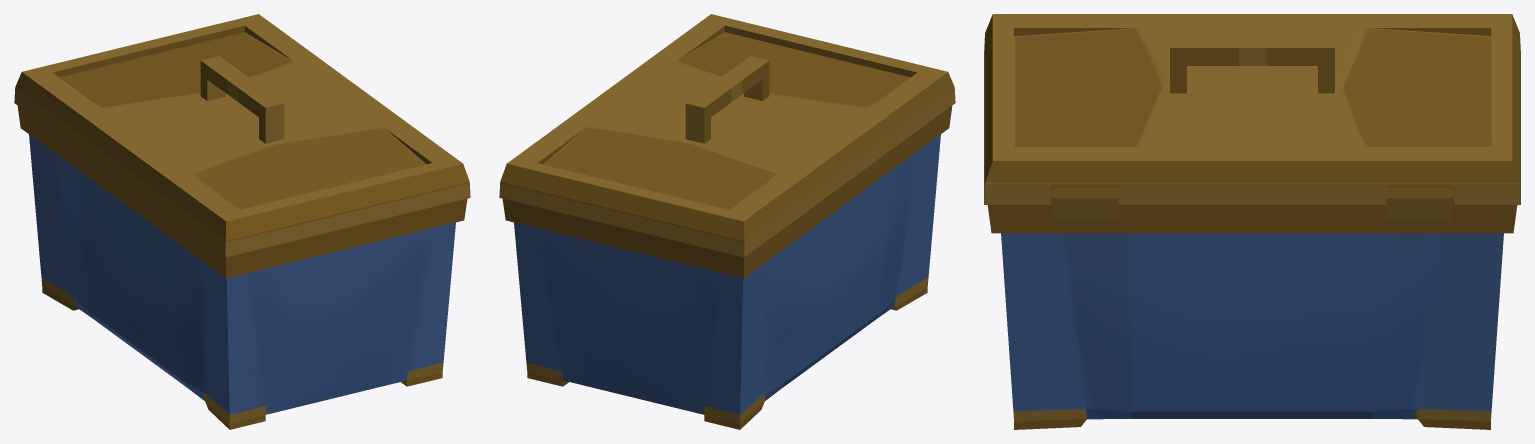
The model's file is ToolBox.fbx.
3 views of the same model, side by side, from view 1: azimuth 30°, elevation 25°; view 2: azimuth 150°, elevation 25°; view 3: azimuth 270°, elevation 25° (orthographic). The views are drawn at different scales.
Visible parts, largest first — view 1: Cube; view 2: Cube; view 3: Cube.
Part boxes in pixels (box(x1,y1,x2,y2)): Cube: box(14, 14, 470, 429); Cube: box(499, 14, 955, 429); Cube: box(984, 14, 1520, 429).
Bounding box in the file's own units: 329 × 317 × 479.
